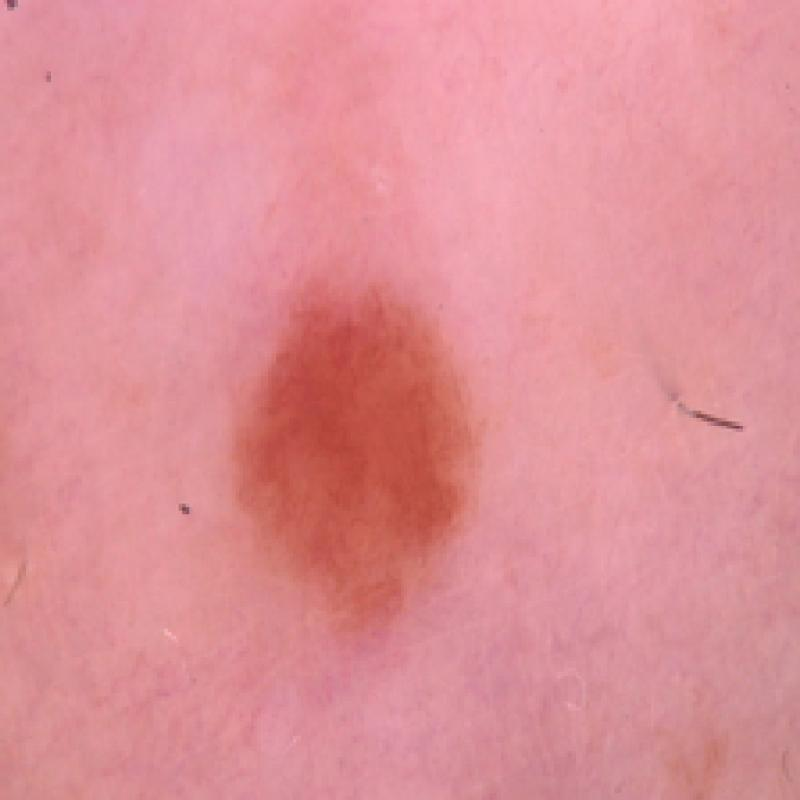benign: (221, 247, 497, 648)
